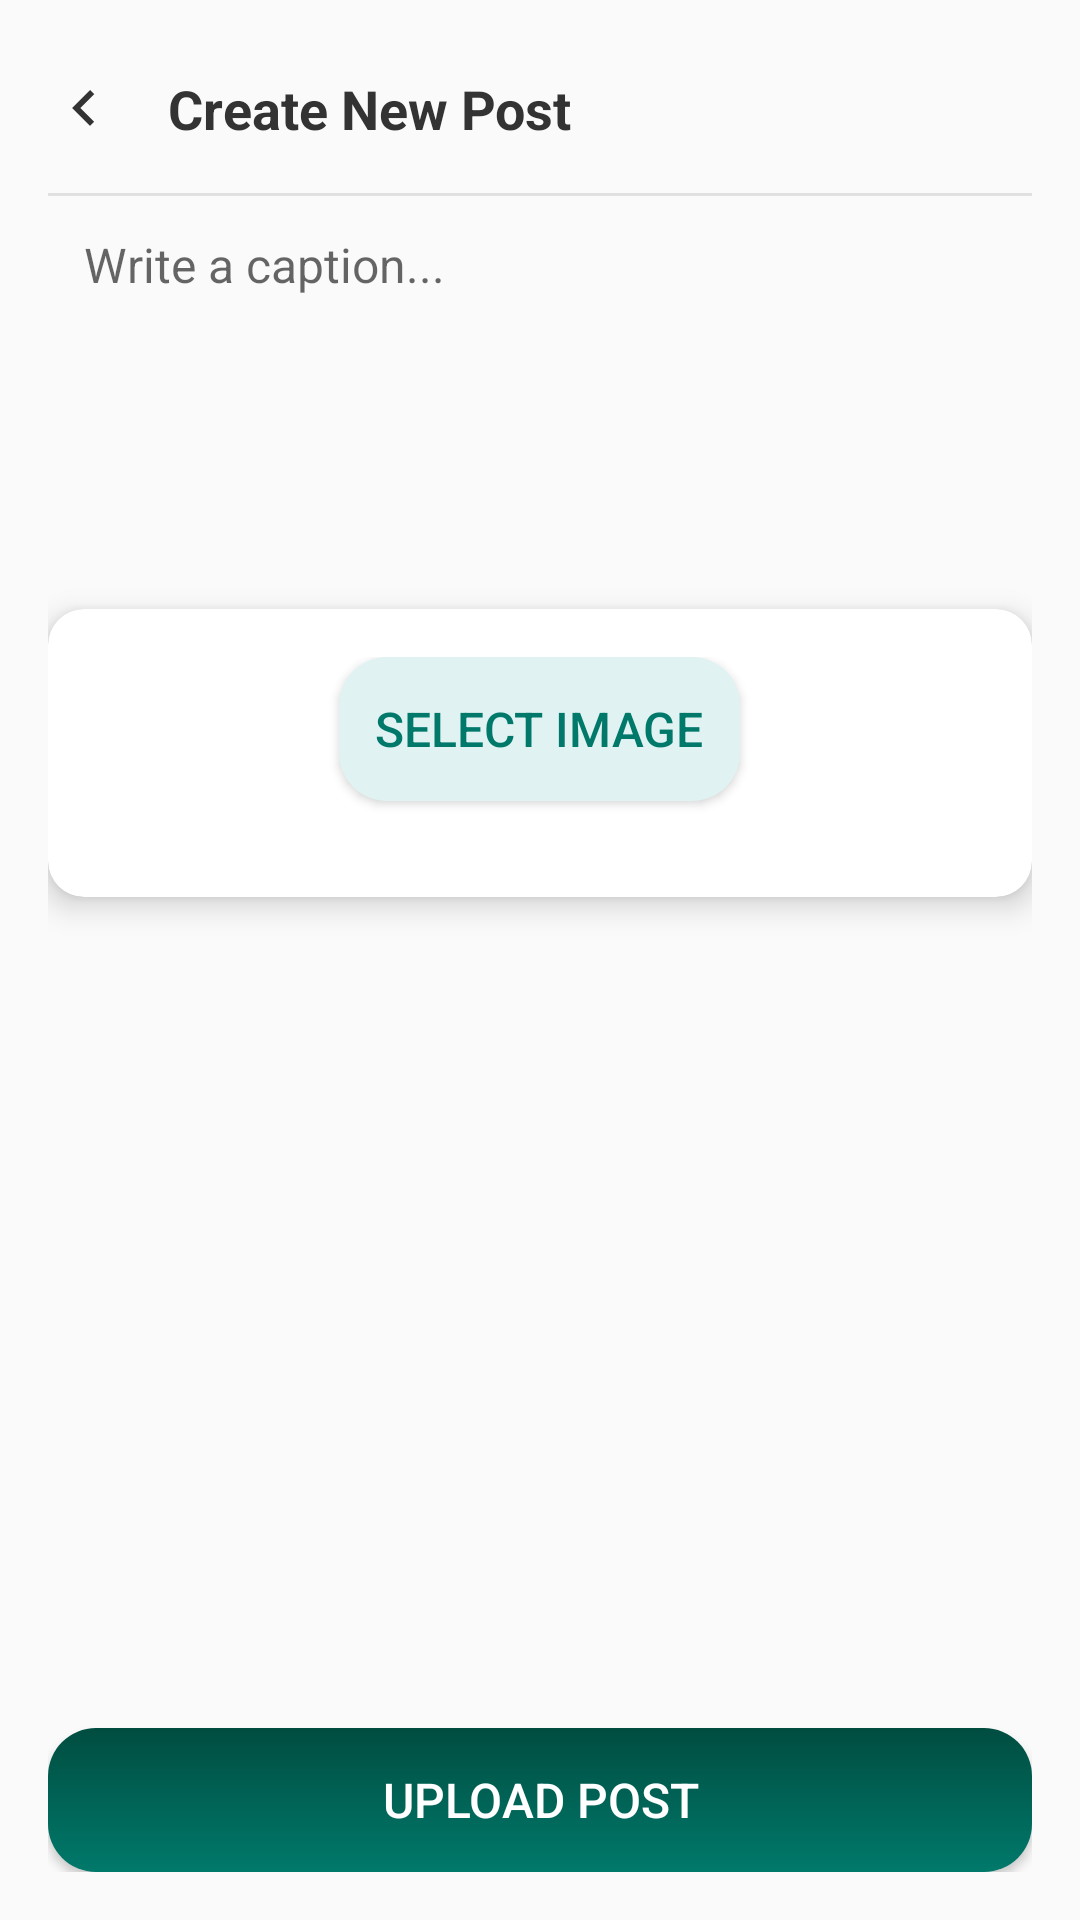

Locate icon controls on the screen. Image size 1080 × 1920, boxes as detection(x1, y1, x2, y2).
Back: detection(72, 90, 94, 126)
